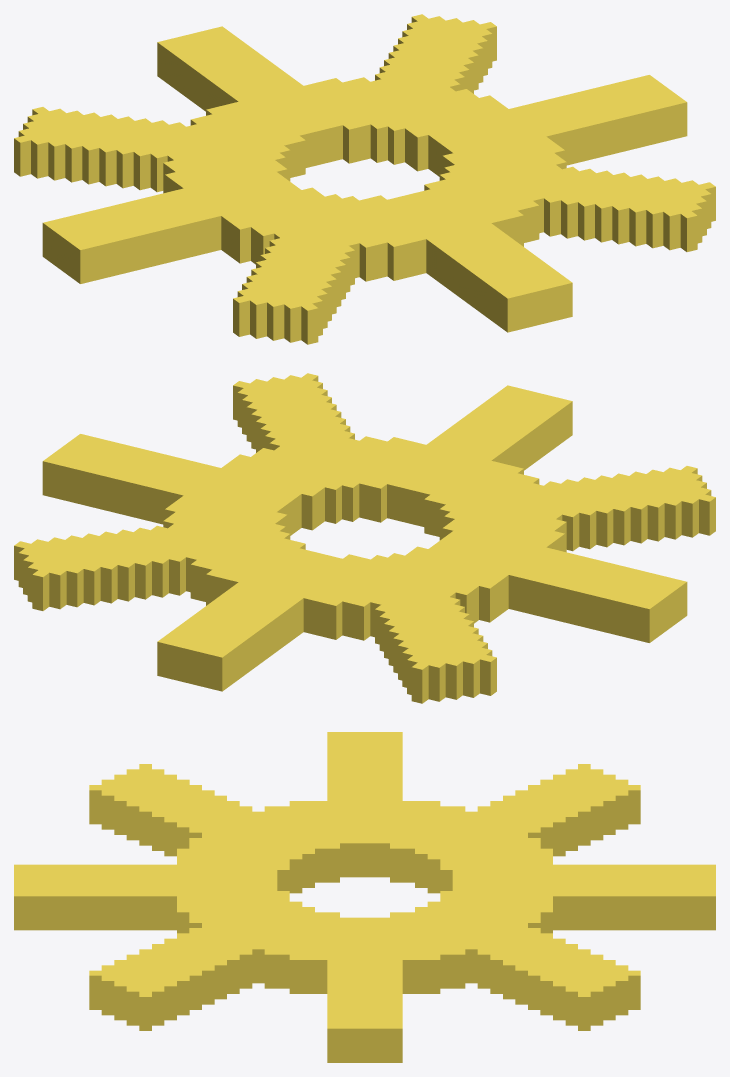
File: maidstage2_gear.fbx
3 renders of one model, top to bottom at view 1: azimuth 30°, elevation 25°; view 2: azimuth 150°, elevation 25°; view 3: azimuth 270°, elevation 25°, orthographic.
Visible parts, largest first — view 1: gear; view 2: gear; view 3: gear.
Boxes of the visible parts, bbox=[...] form: gear: bbox=[14, 14, 715, 344]; gear: bbox=[14, 373, 715, 703]; gear: bbox=[14, 732, 715, 1062].
Bounding box in the file's own units: 560 × 30 × 560.
1 material, 1 textured.
